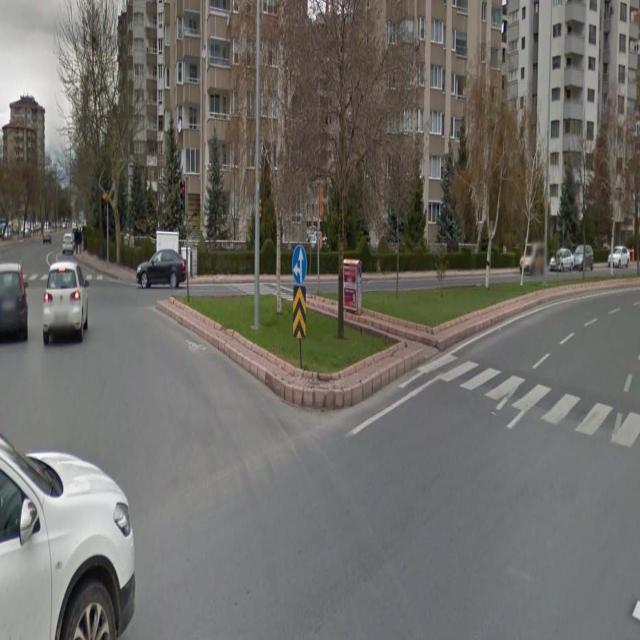ilerisol: (291, 243, 307, 284)
